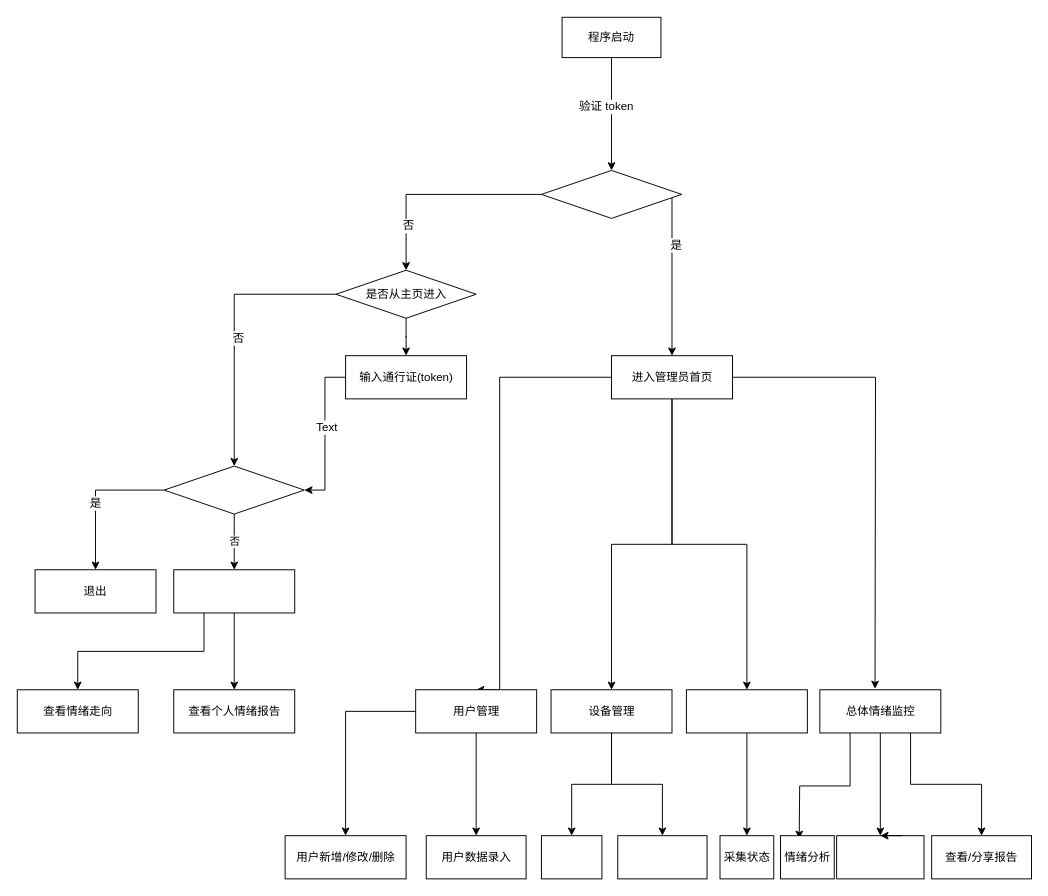
The diagram is 1048 pixels wide and 896 high, and some of its shapes have lost their labels. The shapes that lost their labels are listed below. From the top down, each one's centre as x and y in pixels, then its label:
point 611,193: 是否管理员
point 233,489: 验证token是否过期
point 234,591: 进入个人主页
point 746,711: 采集设置
point 571,857: 添加设备
point 662,857: 查看设备情况
point 880,857: 报告导出
